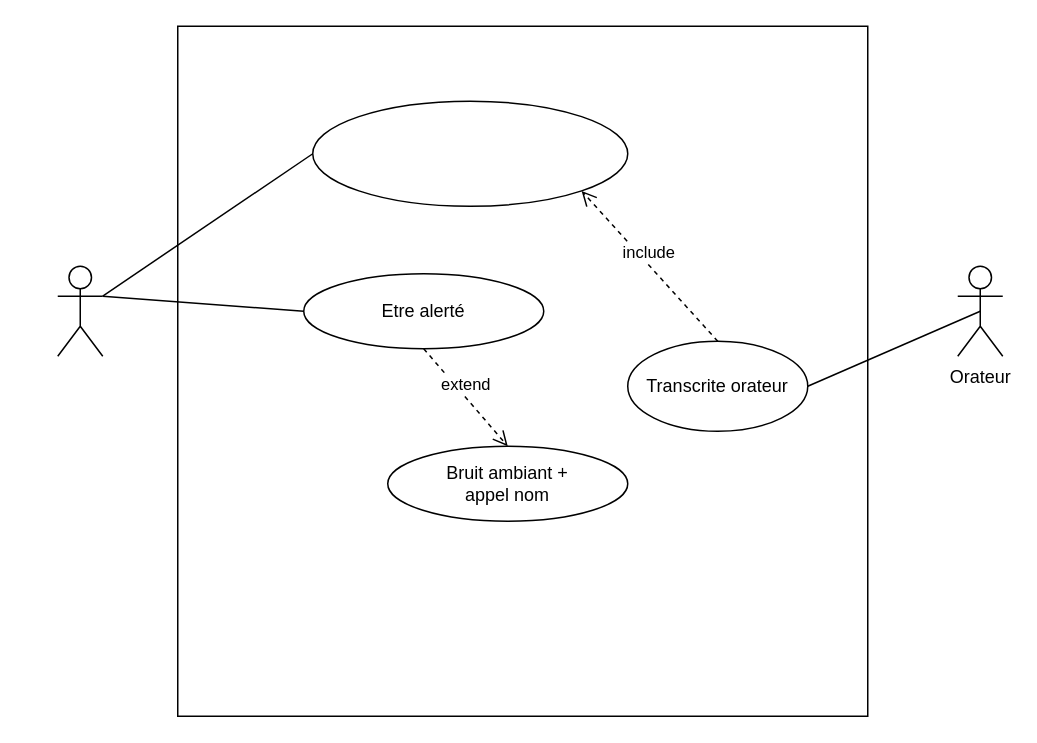
This 1037x743 diagram has some shape labels left out. The shapes that lost their labels are listed below. From the top down, each one's centre as x and y in pixels, then its label:
At pixel 469 153: "Voir la transcription".
At pixel 79 310: "Malentendant".
